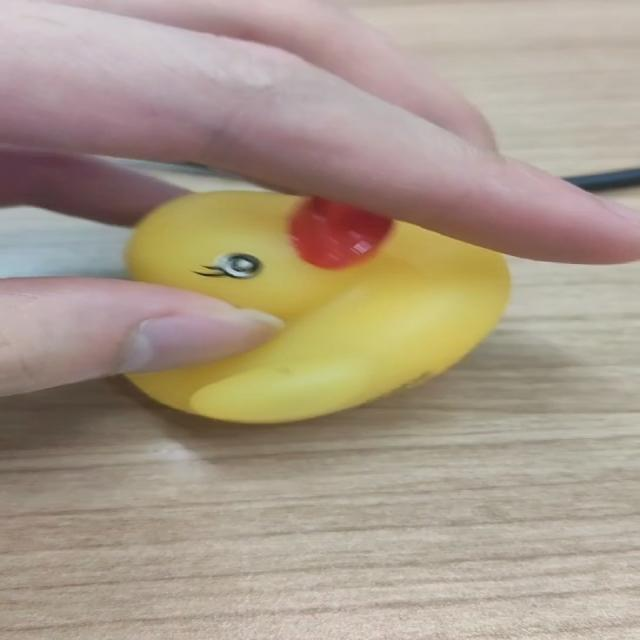rubber-duck: (126, 190, 508, 421)
